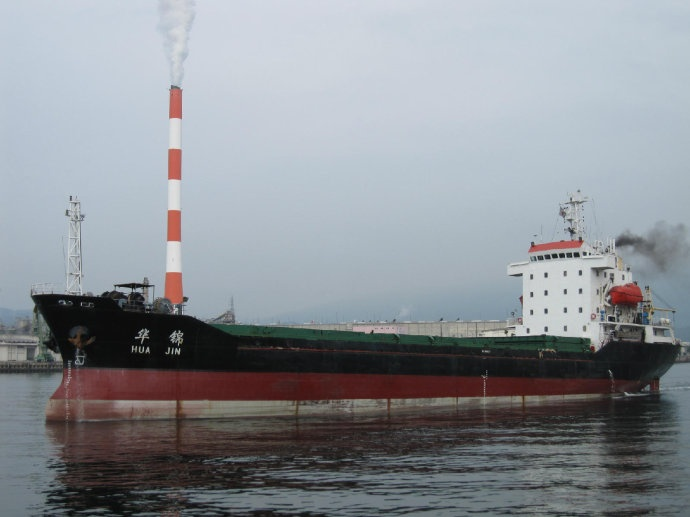Cargoship: (22, 179, 677, 425)
